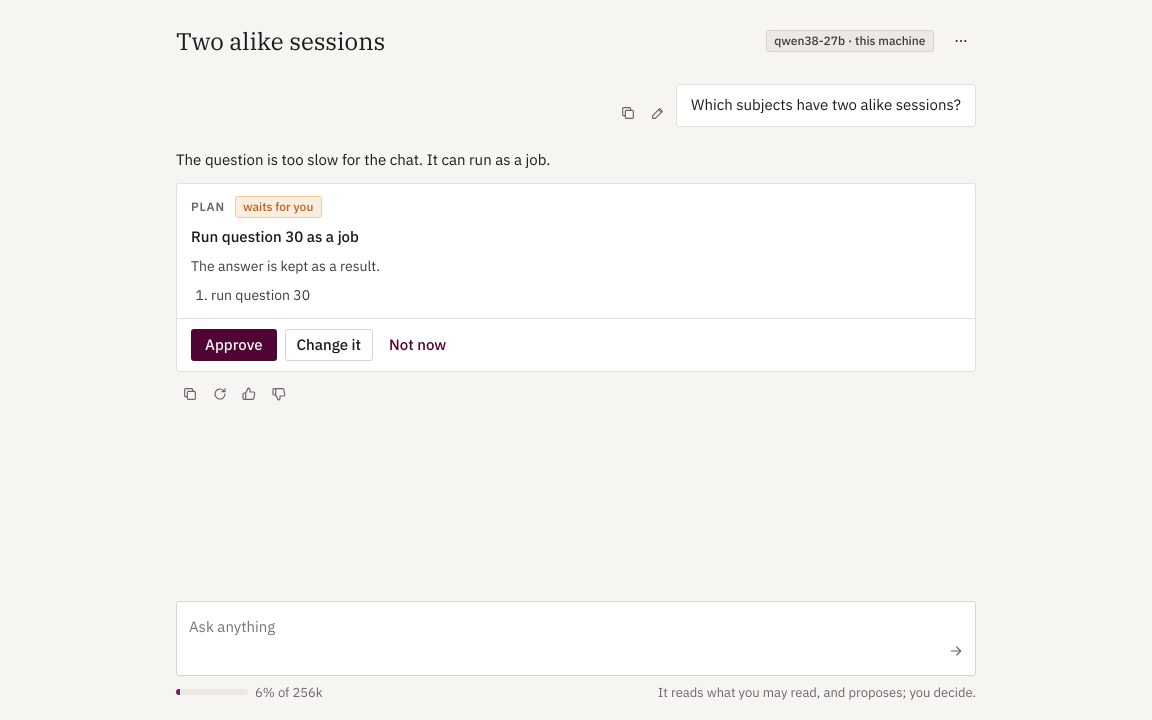
Test case: a decision on the one card › uses the decide door's answer, then lists the plan's steps from the inbox
Click the button "Approve" at (234, 346), box [191,330,277,362]
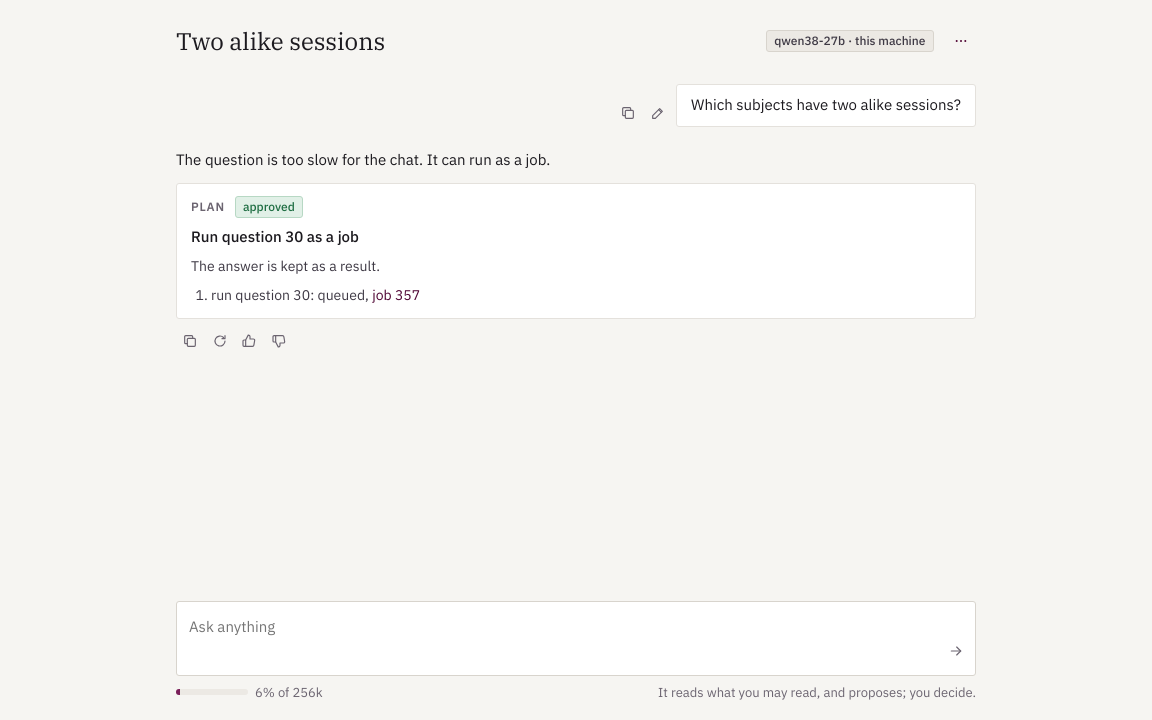
expect the element with class "approval-foot" is gone: met
